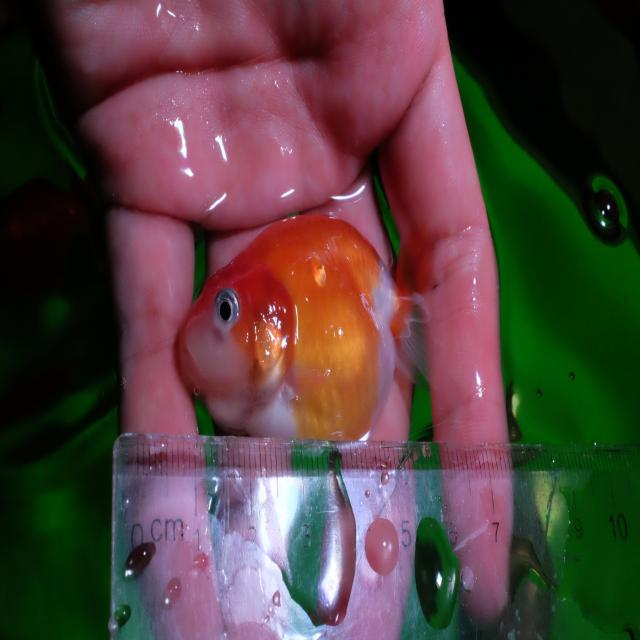Goldfish: (175, 212, 436, 441)
